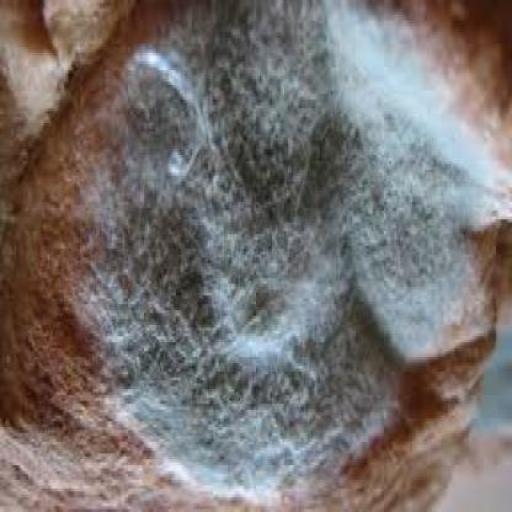biodegradable: (1, 2, 511, 511)
